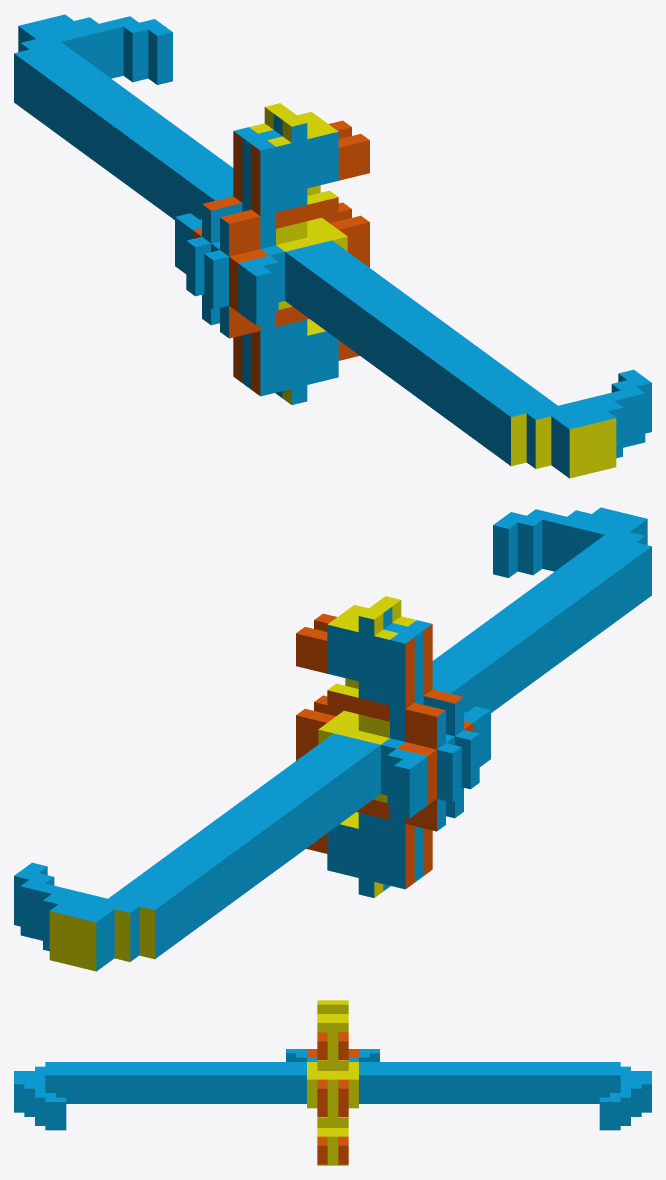
The model's file is Grabber2.glb.
The picture shows the model from 3 angles, top to bottom: view 1: azimuth 30°, elevation 25°; view 2: azimuth 150°, elevation 25°; view 3: azimuth 270°, elevation 25°; orthographic projection. The views are drawn at different scales.
Visible parts, largest first — view 1: Cube; view 2: Cube; view 3: Cube.
Part boxes in pixels (x1,y1,x2,y2): Cube: (14, 14, 651, 478); Cube: (14, 507, 651, 971); Cube: (14, 1000, 651, 1165).
Bounding box in the file's own units: 26 × 34 × 122.
